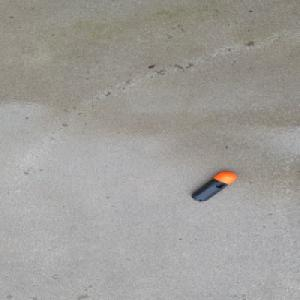PlasticPart: (190, 170, 238, 202)
